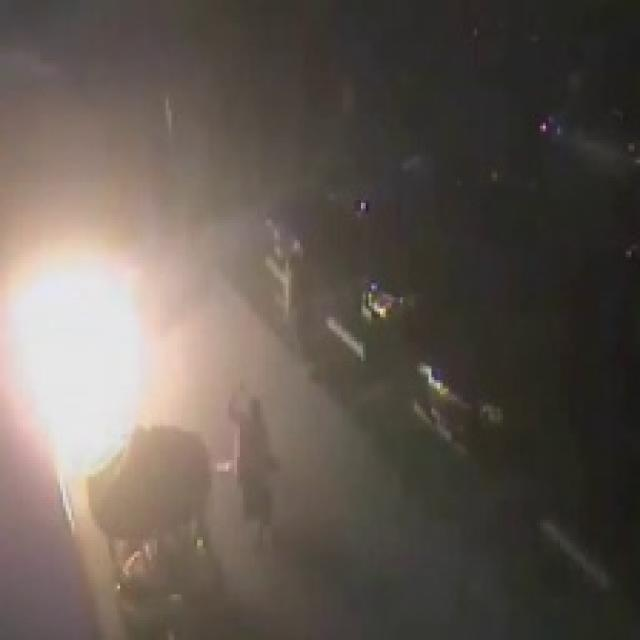fire: (0, 251, 154, 474)
